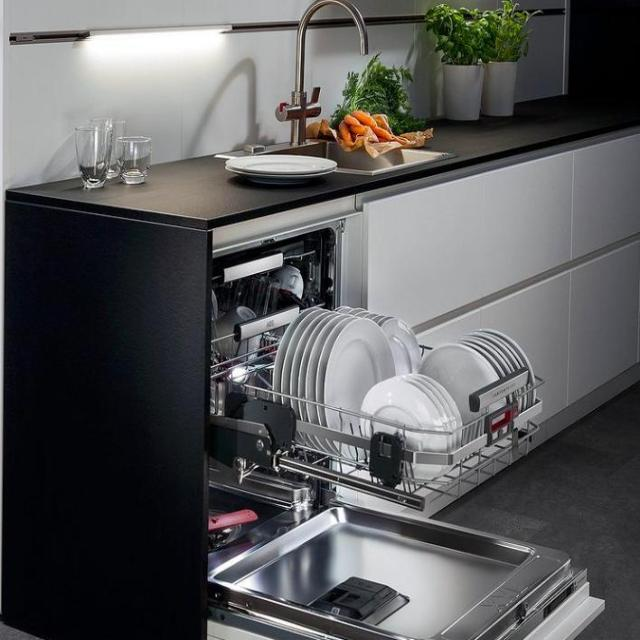dishwasher: (210, 193, 603, 639)
